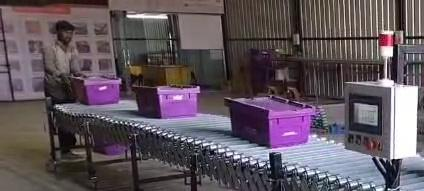box: (225, 96, 316, 147), (133, 86, 199, 118), (72, 77, 121, 104), (92, 135, 126, 155)
